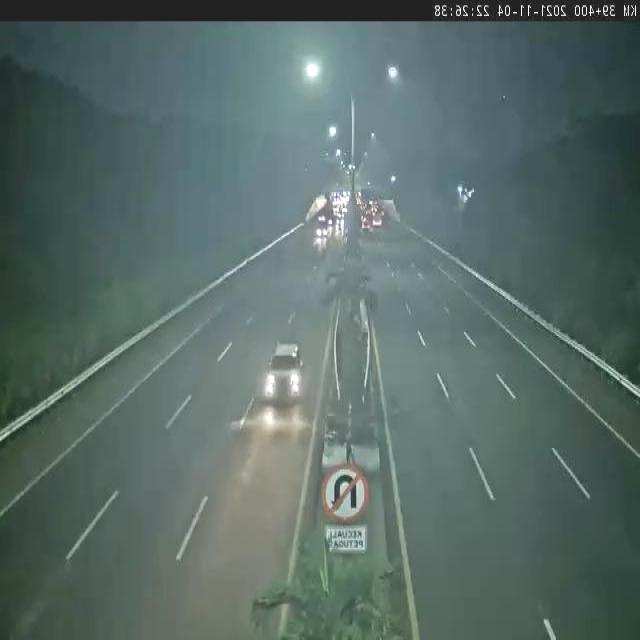Car: (252, 324, 314, 430)
